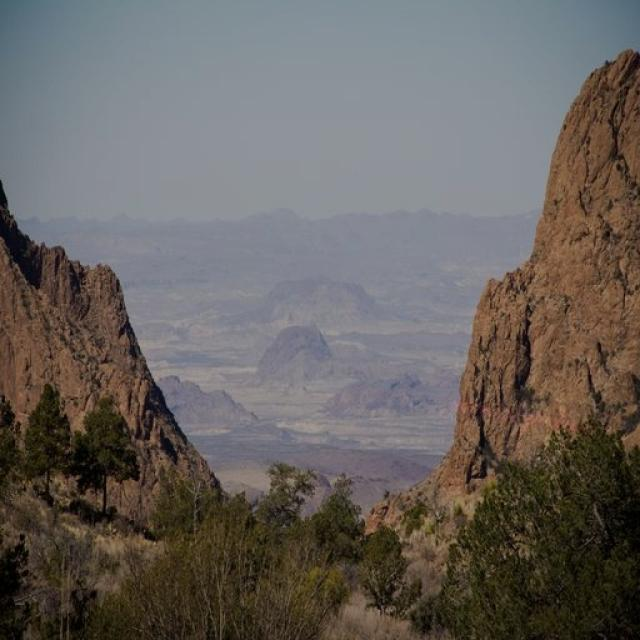watermark: (442, 386, 616, 440)
